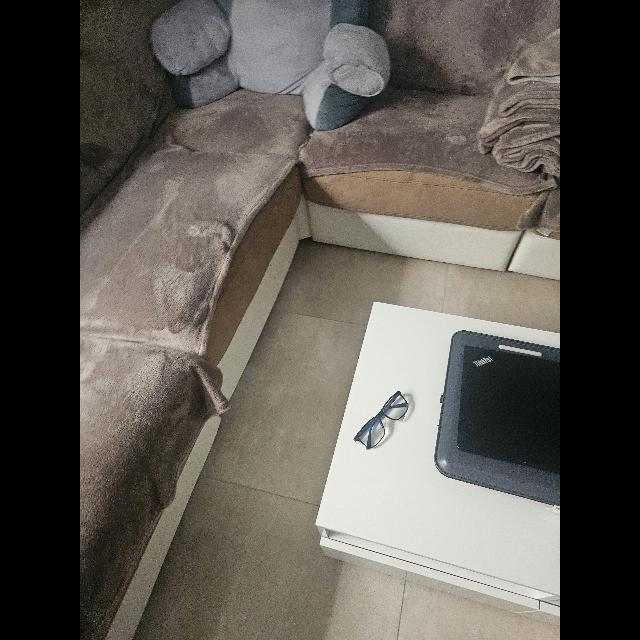glasses: (354, 390, 408, 450)
